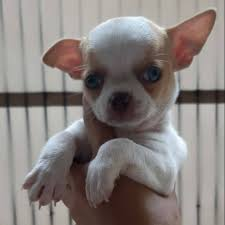Chihuahua: (17, 4, 221, 210)
